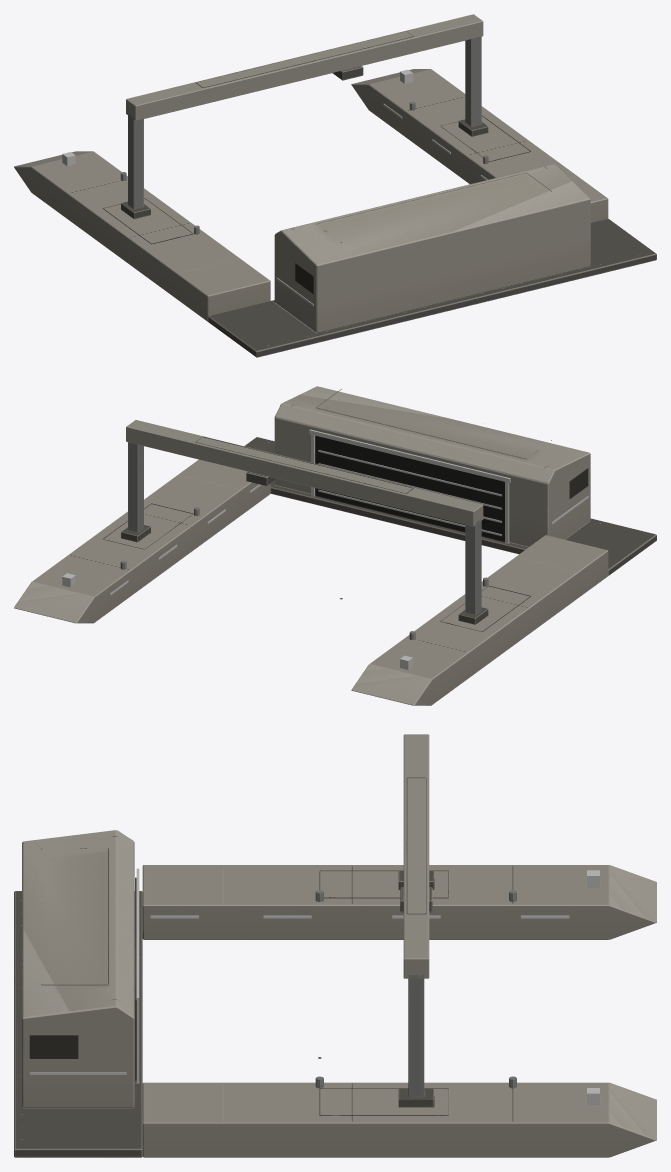
File: ord_shipyard.fbx
The picture shows the model from 3 angles, top to bottom: view 1: azimuth 30°, elevation 25°; view 2: azimuth 150°, elevation 25°; view 3: azimuth 270°, elevation 25°; orthographic projection. The views are drawn at different scales.
Parts seen in each view (by area): view 1: base_bar, base_glow_running_bar; view 2: base_bar, base_glow_power_bar, base_glow_running_bar; view 3: base_bar, base_glow_running_bar, base_glow_power_bar.
Boxes of the visible parts, bbox=[...] form: base_bar: bbox=[14, 14, 656, 357]; base_glow_running_bar: bbox=[62, 69, 487, 305]; base_bar: bbox=[14, 386, 656, 705]; base_glow_power_bar: bbox=[309, 429, 510, 543]; base_glow_running_bar: bbox=[62, 484, 588, 669]; base_bar: bbox=[14, 734, 656, 1157]; base_glow_running_bar: bbox=[30, 870, 599, 1105]; base_glow_power_bar: bbox=[136, 868, 139, 1083].
Size of the model in its own units: 3800 by 1456 by 3994.
2 materials, 2 textured.
